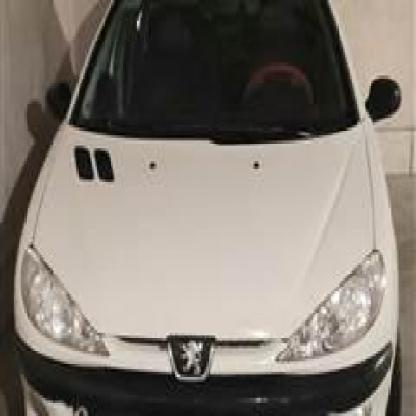Car: (27, 0, 406, 416)
